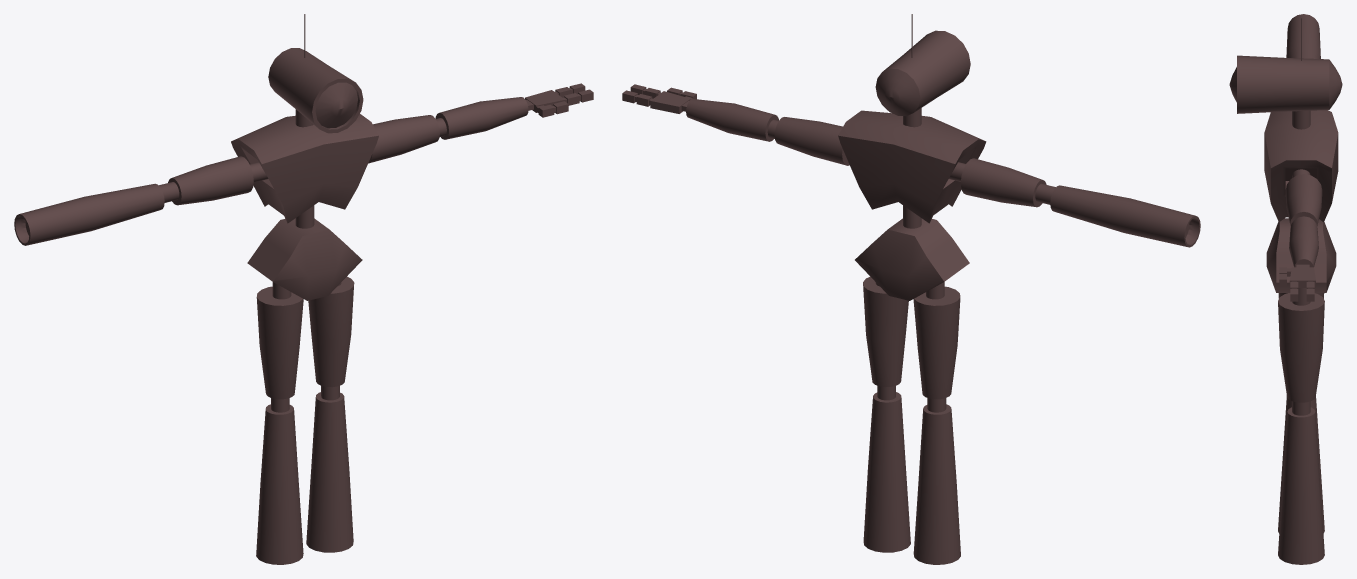
File: Robot_Normal_Ranger_Final01.fbx
3 views of the same model, side by side, from view 1: azimuth 30°, elevation 25°; view 2: azimuth 150°, elevation 25°; view 3: azimuth 270°, elevation 25° (orthographic).
Visible parts, largest first — view 1: Torso, Pantorilla_RIght, Pantorilla_Left, Cadera, Cabeza, Brazo_Right, Muslo_RIght, Muslo_Left, Antebrazo_Right, Brazo_Left, Antebrazo_Left; view 2: Torso, Pantorilla_Left, Pantorilla_RIght, Cadera, Cabeza, Brazo_Right, Muslo_RIght, Muslo_Left, Antebrazo_Right, Brazo_Left, Antebrazo_Left; view 3: Pantorilla_Left, Cabeza, Torso, Muslo_Left, Cadera, Antebrazo_Left, Brazo_Right, Brazo_Left, Pantorilla_RIght, Palma_Left, Cuello, Rodilla_Left (+1 smaller).
Part boxes in pixels (x1,y1,x2,y2): Torso: (231,114,378,223); Pantorilla_RIght: (256,404,303,564); Pantorilla_Left: (306,392,353,552); Cadera: (247,218,362,300); Cabeza: (268,48,363,133); Brazo_Right: (14,183,164,245); Muslo_RIght: (256,286,303,399); Muslo_Left: (308,276,354,387); Antebrazo_Right: (168,156,253,205); Brazo_Left: (435,97,528,139); Antebrazo_Left: (368,115,439,163); Torso: (838,110,986,223); Pantorilla_Left: (863,392,910,552); Pantorilla_RIght: (913,404,960,564); Cadera: (855,218,969,300); Cabeza: (875,30,970,116); Brazo_Right: (1050,185,1200,247); Muslo_RIght: (913,286,960,399); Muslo_Left: (863,276,908,387); Antebrazo_Right: (960,158,1046,207); Brazo_Left: (686,99,778,141); Antebrazo_Left: (774,117,849,165); Pantorilla_Left: (1278,407,1324,564); Cabeza: (1229,55,1342,113); Torso: (1264,110,1338,222); Muslo_Left: (1278,293,1324,402); Cadera: (1266,218,1336,292); Antebrazo_Left: (1285,174,1322,226); Brazo_Right: (1286,14,1320,58); Brazo_Left: (1289,216,1318,267); Pantorilla_RIght: (1278,395,1324,533); Palma_Left: (1289,267,1315,287); Cuello: (1292,110,1310,129); Rodilla_Left: (1292,401,1310,415).
Size of the model in its own units: 2.43 by 2.19 by 0.4284.
